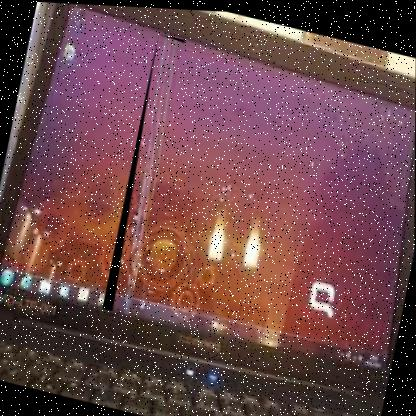lines: (102, 29, 185, 317)
